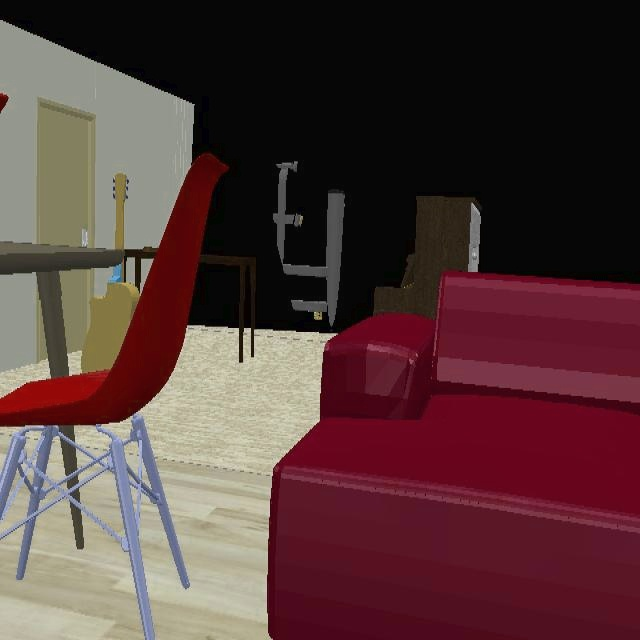chair: (0, 153, 230, 560)
sofa: (265, 273, 640, 640)
table: (0, 241, 157, 379), (58, 428, 78, 477)
